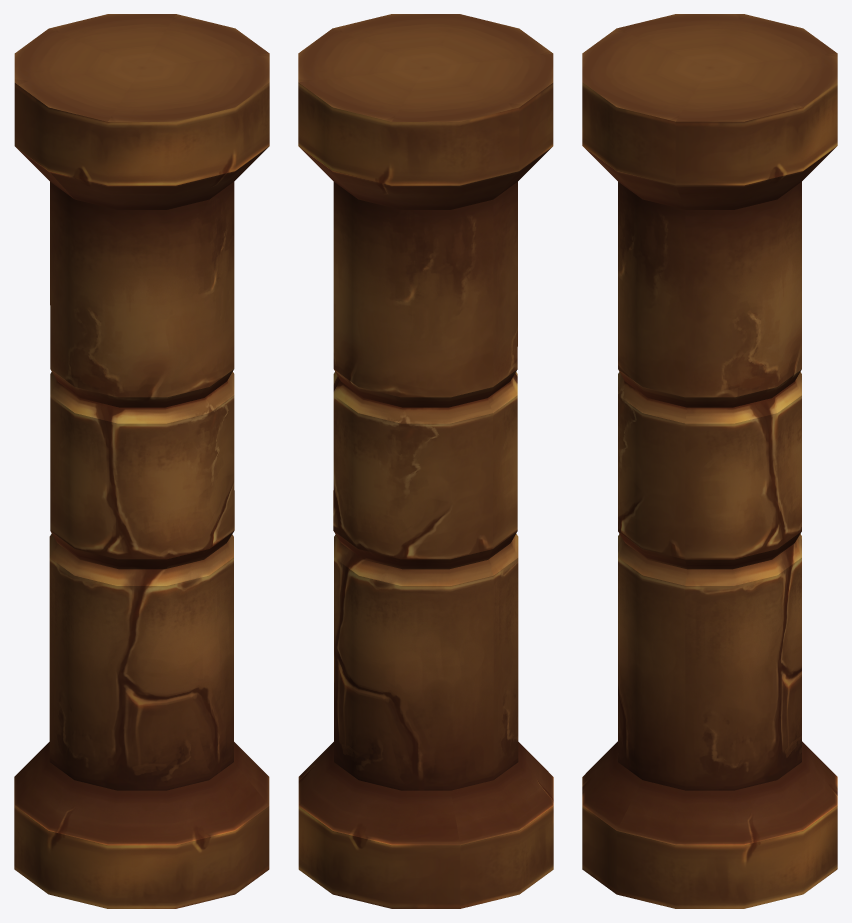
Rendered from 1013_No_bachimdae.FBX.
The picture shows the model from 3 angles, left to right: view 1: azimuth 30°, elevation 25°; view 2: azimuth 150°, elevation 25°; view 3: azimuth 270°, elevation 25°; orthographic projection.
Parts seen in each view (by area): view 1: Object003; view 2: Object003; view 3: Object003.
Boxes of the visible parts, box(x1,y1,x2,y2) form: Object003: box(14, 14, 269, 908); Object003: box(298, 14, 553, 908); Object003: box(582, 14, 837, 908).
Size of the model in its own units: 57.52 by 196 by 57.46.
